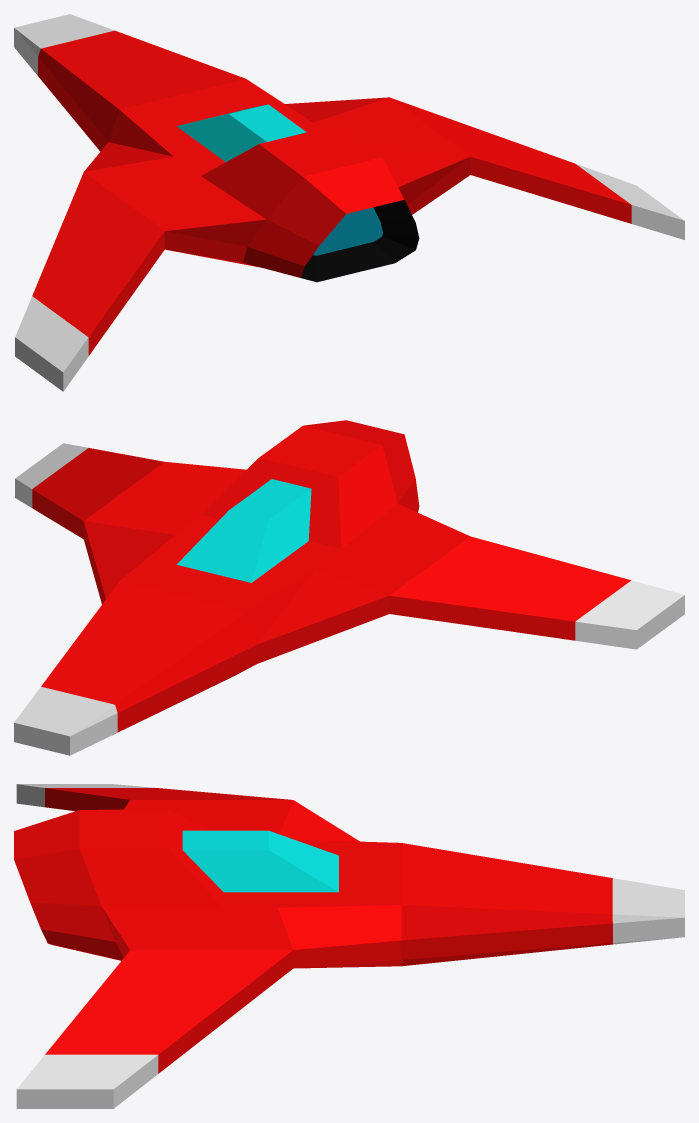
File: Player.fbx
3 views of the same model, one above another, from view 1: azimuth 30°, elevation 25°; view 2: azimuth 150°, elevation 25°; view 3: azimuth 270°, elevation 25° (orthographic).
Visible parts, largest first — view 1: Cube; view 2: Cube; view 3: Cube.
Boxes of the visible parts, x1=… form: Cube: x1=14, y1=14, x2=684, y2=391; Cube: x1=14, y1=420, x2=684, y2=755; Cube: x1=14, y1=784, x2=684, y2=1108.
Size of the model in its own units: 7.03 by 6.53 by 1.36.
